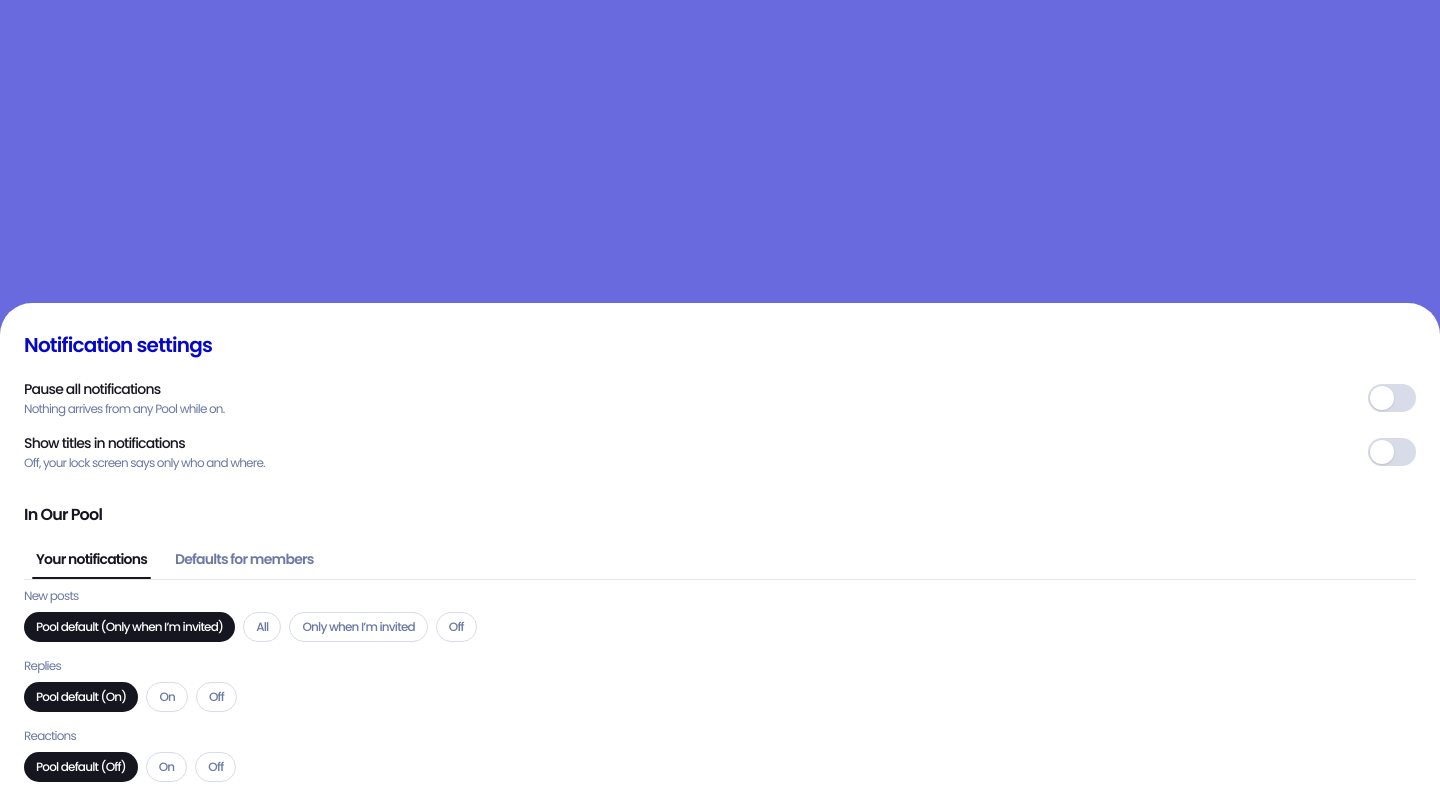
notification settings, from the bell in a pool (H32, 0059) › shows a member the defaults read-only, under their tab
The image size is (1440, 810).
Expected: the button "Pool default (Only when I’m invited)" is shown, left=24, top=612, right=235, bottom=642
Click the tab "Defaults for members" at (244,559), box left=163, top=539, right=326, bottom=579
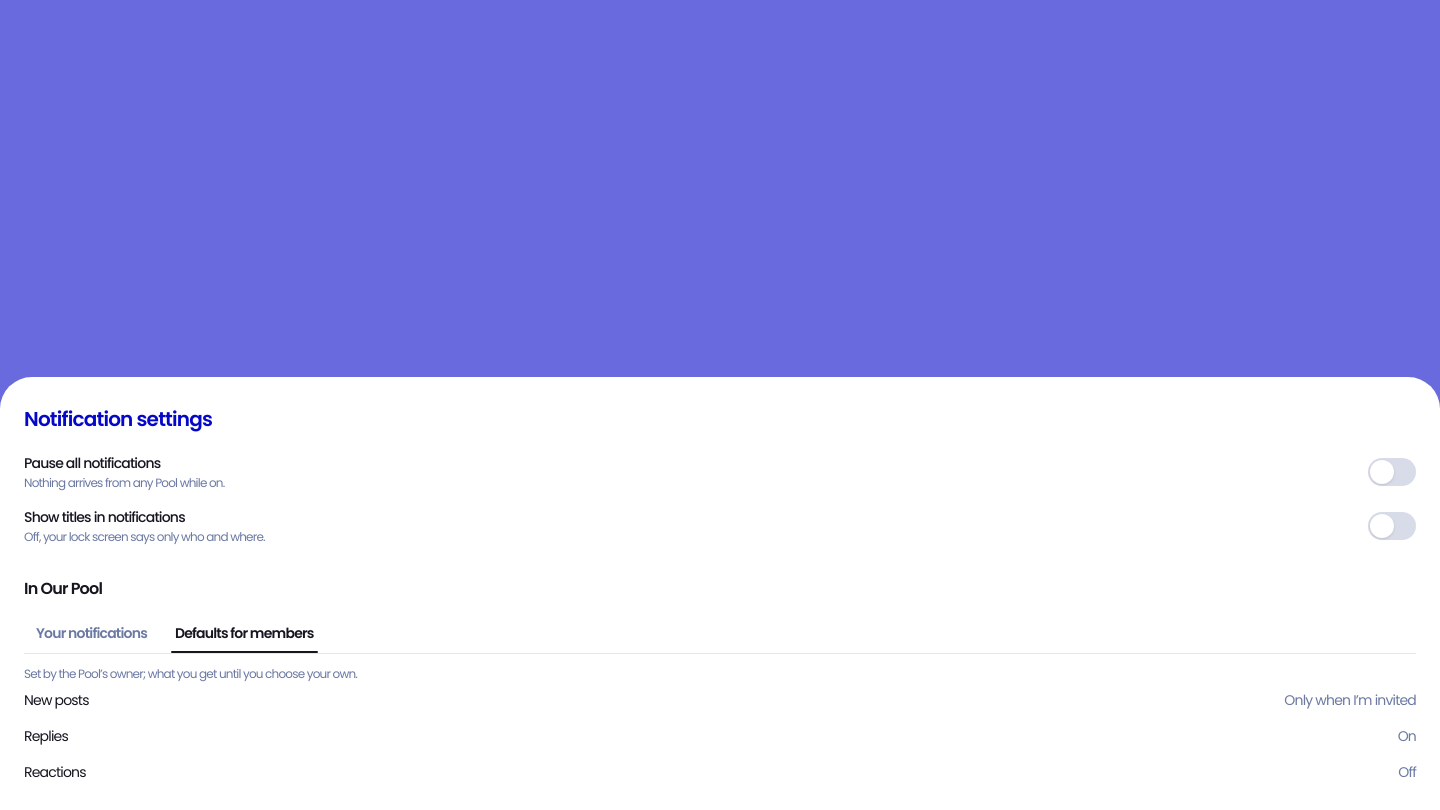
Now the element showing "New posts Only when I’m invited" is shown, box left=24, top=690, right=1416, bottom=710
